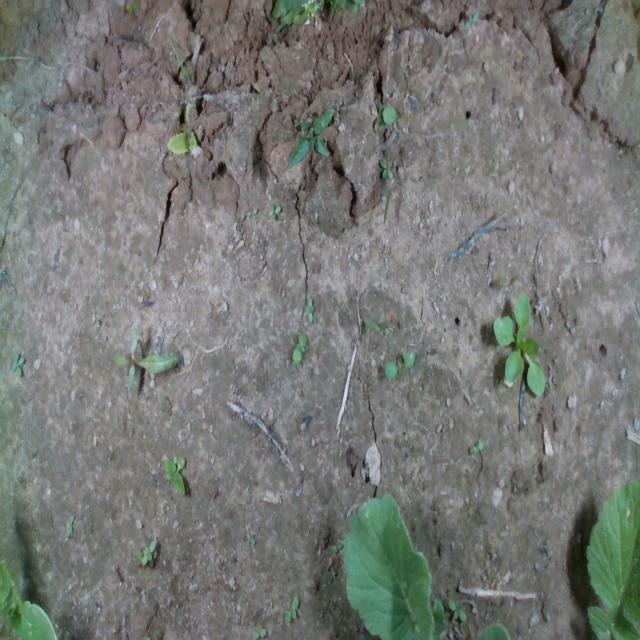weed: (286, 105, 334, 169), (163, 452, 186, 497), (383, 347, 415, 378), (166, 130, 198, 154), (447, 596, 467, 622), (283, 593, 299, 622), (292, 332, 306, 364), (376, 102, 396, 124), (10, 349, 24, 379), (140, 538, 156, 564), (303, 295, 315, 323), (379, 154, 393, 178), (64, 511, 74, 539), (267, 203, 281, 221), (245, 205, 258, 217)
